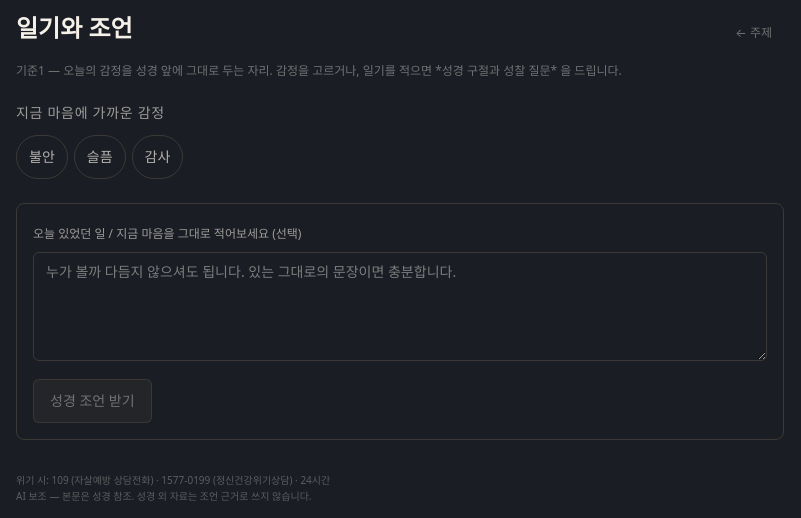
Test: /topics/journal — 일기 텍스트로 조언 받기 › 요청이 실패하면 실패했다고 말한다
The width and height of the screenshot is (801, 518).
Type "오늘 하루" into the text box.
click(400, 306); type("오늘 하루")  # box x1=33 y1=252 x2=767 y2=361
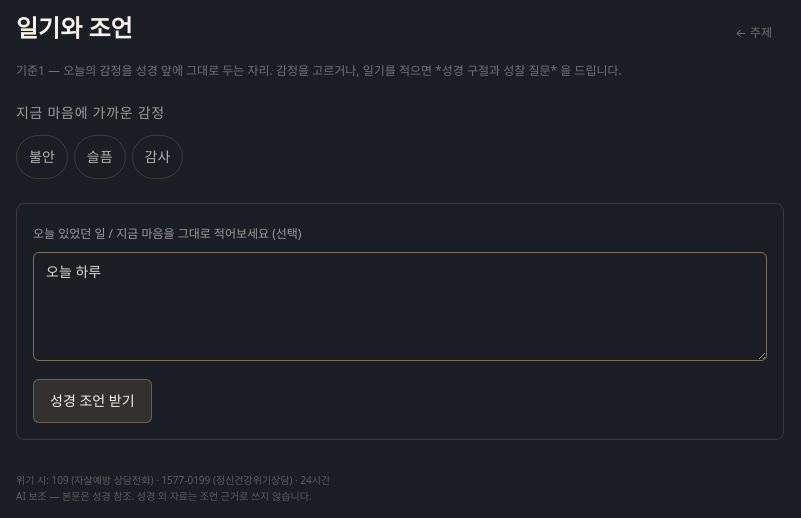
Click the button "성경 조언 받기".
click(92, 401)  # box x1=33 y1=379 x2=152 y2=423
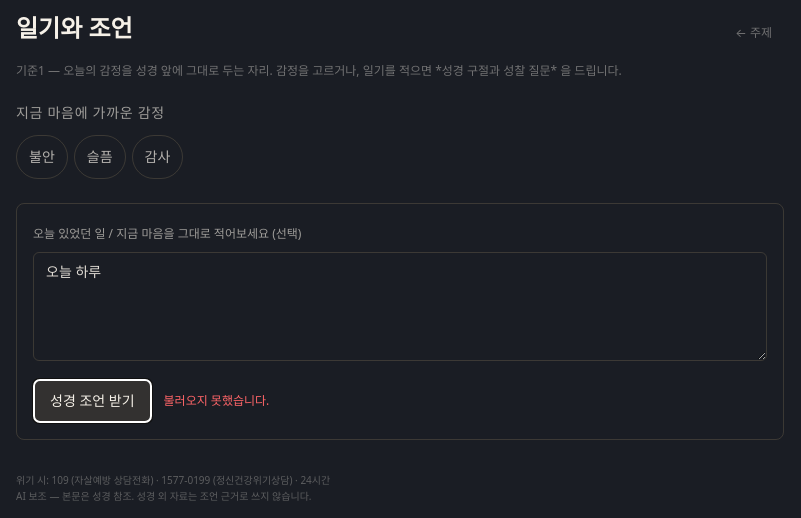
Expected: the text "불러오지 못했습니다." is shown, x1=164 y1=393 x2=269 y2=409
